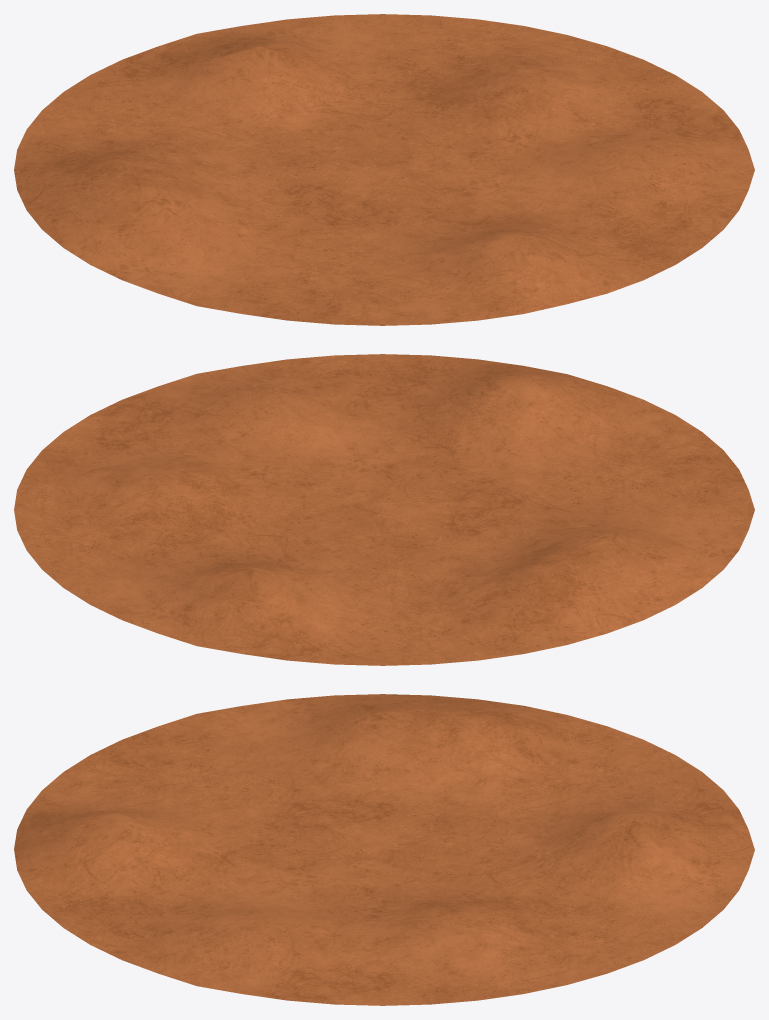
The model's file is terrain_ground_test.fbx.
3 renders of one model, top to bottom at view 1: azimuth 30°, elevation 25°; view 2: azimuth 150°, elevation 25°; view 3: azimuth 270°, elevation 25°, orthographic.
Parts seen in each view (by area): view 1: Terrain_ground; view 2: Terrain_ground; view 3: Terrain_ground.
Boxes of the visible parts, box(x1,y1,x2,y2) form: Terrain_ground: box(14, 14, 754, 325); Terrain_ground: box(14, 354, 754, 665); Terrain_ground: box(14, 694, 754, 1005).
Bounding box in the file's own units: 19708 × 957 × 19792.
